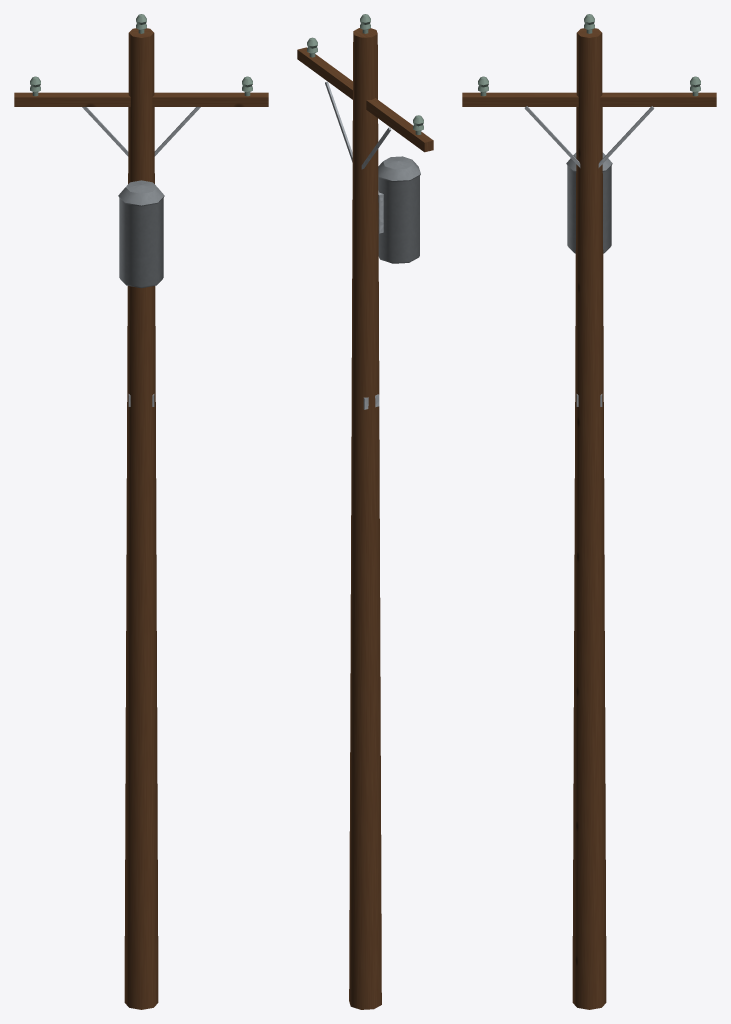
The model's file is utility_pole.gltf.
3 renders of one model, left to right at view 1: azimuth 90°, elevation 25°; view 2: azimuth 210°, elevation 25°; view 3: azimuth 270°, elevation 25°, orthographic.
Parts seen in each view (by area): view 1: utility_pole; view 2: utility_pole; view 3: utility_pole.
Part boxes in pixels (x1=…): utility_pole: x1=14, y1=14, x2=268, y2=1009; utility_pole: x1=297, y1=14, x2=433, y2=1009; utility_pole: x1=462, y1=14, x2=716, y2=1009.
Size of the model in its own units: 0.74 by 10.29 by 2.4.
4 materials, 4 textured.
